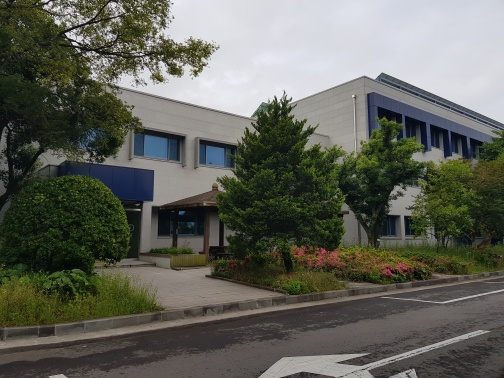College of Social Sciences: (77, 67, 470, 252)
